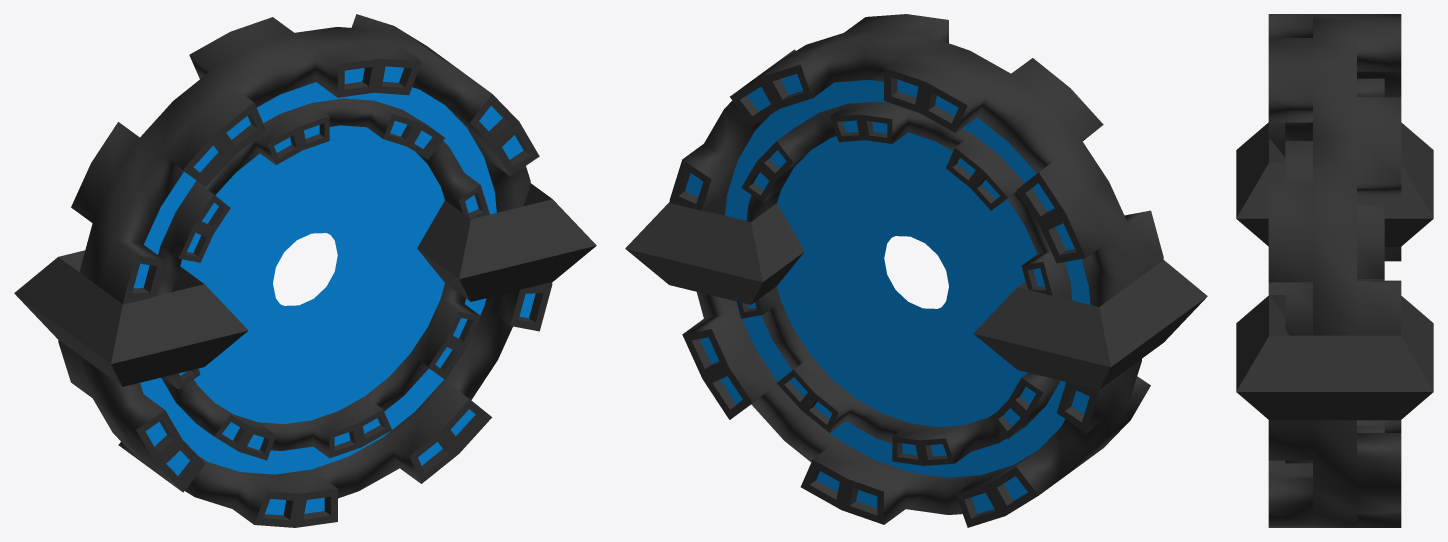
File: Boostring.fbx
The picture shows the model from 3 angles, left to right: view 1: azimuth 30°, elevation 25°; view 2: azimuth 150°, elevation 25°; view 3: azimuth 270°, elevation 25°; orthographic projection.
Visible parts, largest first — view 1: OuterRing, Glow, InnerRing, Cap, Cap1, Glow1; view 2: OuterRing, Glow1, InnerRing, Cap, Cap1, Glow; view 3: OuterRing, Cap1, Cap, InnerRing.
Part boxes in pixels (x1=…): OuterRing: x1=58, y1=14, x2=552, y2=527; Glow: x1=140, y1=82, x2=496, y2=474; InnerRing: x1=156, y1=98, x2=489, y2=460; Cap: x1=14, y1=250, x2=248, y2=386; Cap1: x1=417, y1=183, x2=596, y2=301; Glow1: x1=280, y1=235, x2=350, y2=315; OuterRing: x1=669, y1=14, x2=1163, y2=527; Glow1: x1=725, y1=80, x2=1090, y2=477; InnerRing: x1=736, y1=101, x2=1072, y2=465; Cap: x1=973, y1=260, x2=1207, y2=389; Cap1: x1=625, y1=202, x2=804, y2=304; Glow: x1=871, y1=238, x2=941, y2=318; OuterRing: x1=1268, y1=14, x2=1401, y2=527; Cap1: x1=1236, y1=295, x2=1433, y2=420; Cap: x1=1236, y1=122, x2=1433, y2=246; InnerRing: x1=1285, y1=78, x2=1384, y2=463.
Size of the model in its own units: 4.35 by 3.92 by 1.5.
